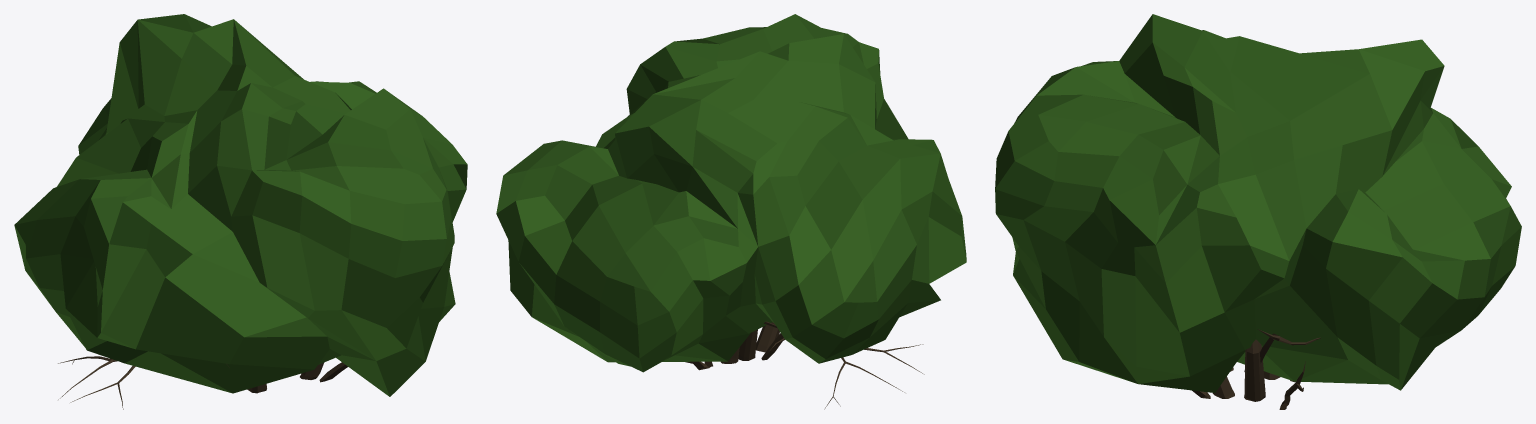
The model's file is Bush_001.fbx.
3 renders of one model, left to right at view 1: azimuth 30°, elevation 25°; view 2: azimuth 150°, elevation 25°; view 3: azimuth 270°, elevation 25°, orthographic. The views are drawn at different scales.
Parts seen in each view (by area): view 1: bush_001; view 2: bush_001; view 3: bush_001.
Boxes of the visible parts, x1,y1,x2,y2 form: bush_001: (14, 14, 467, 409); bush_001: (496, 14, 966, 409); bush_001: (995, 14, 1521, 409).
Bounding box in the file's own units: 154 × 123 × 178.
